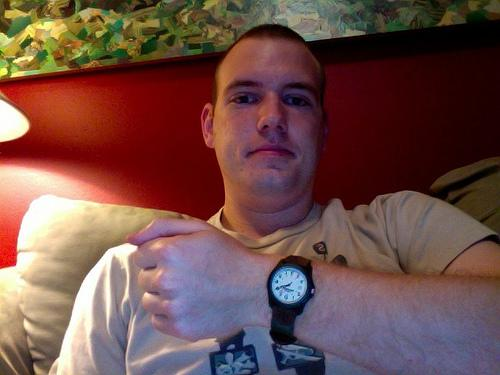watch: (267, 257, 315, 316)
